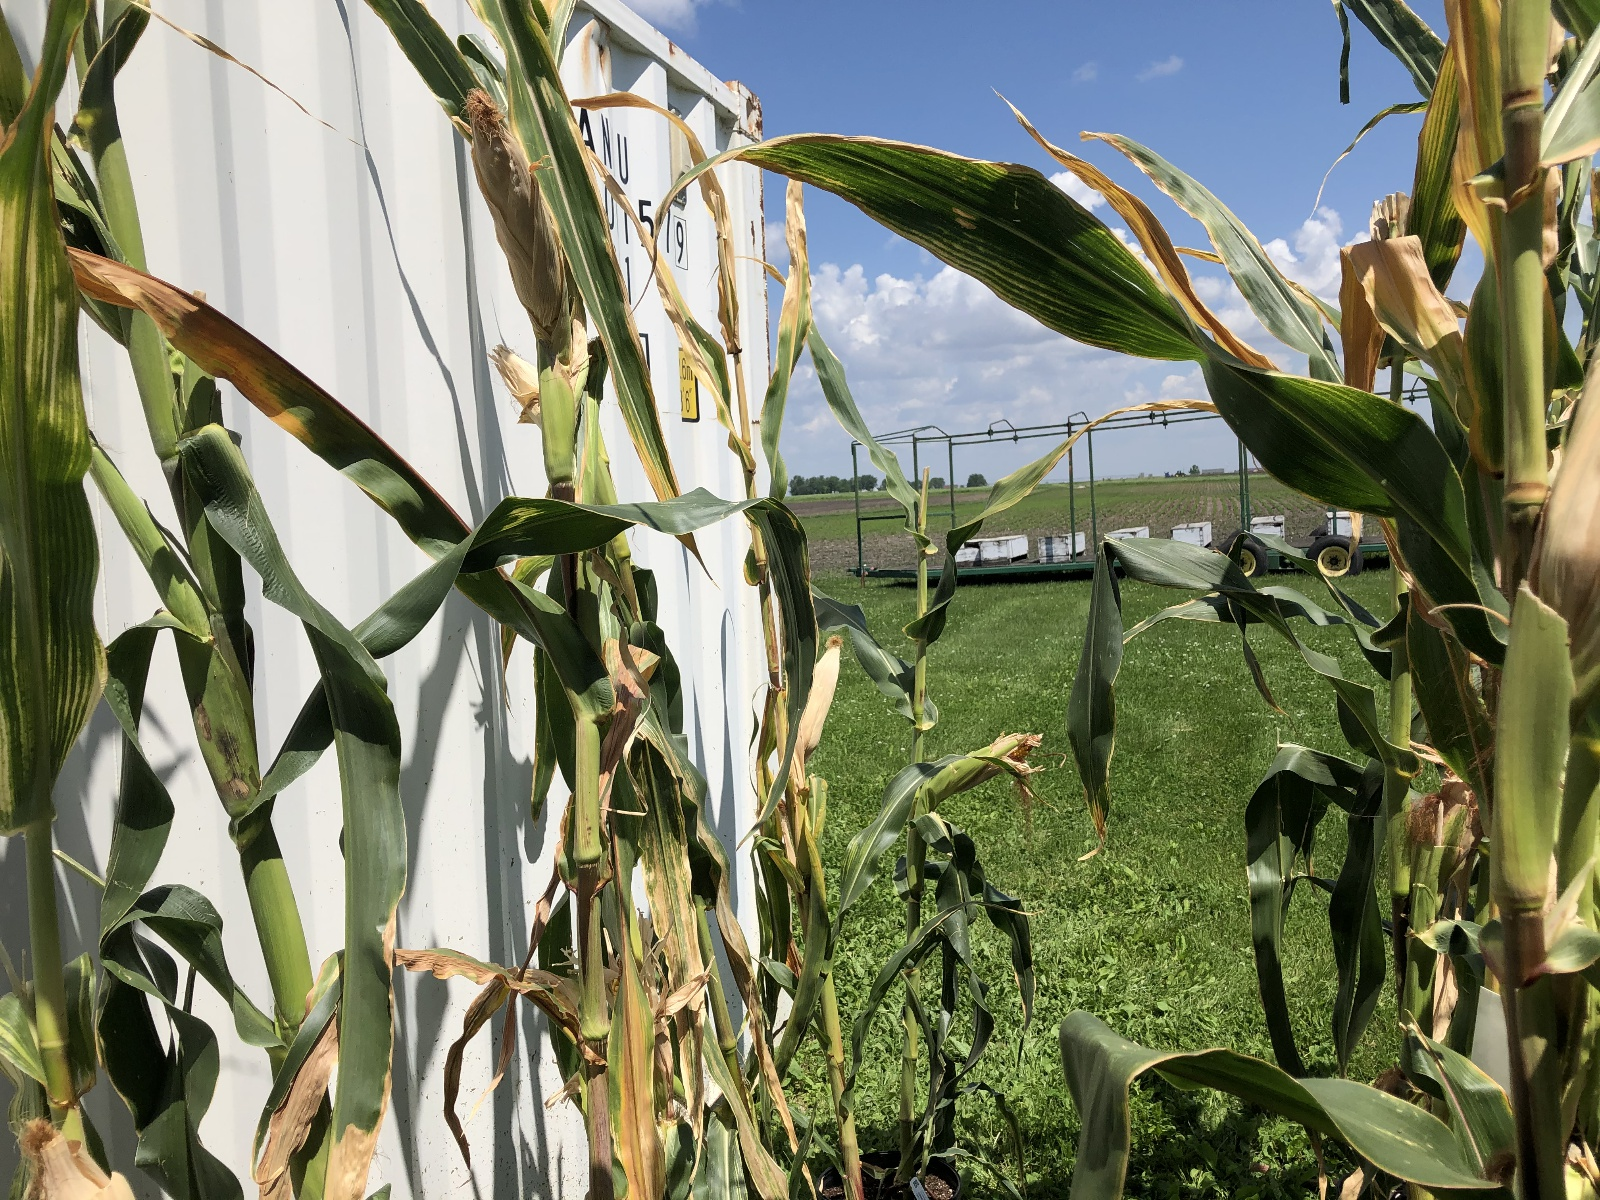ear: (467, 88, 571, 319), (915, 726, 1051, 803), (13, 1113, 111, 1197), (792, 628, 848, 758), (485, 340, 548, 403)
